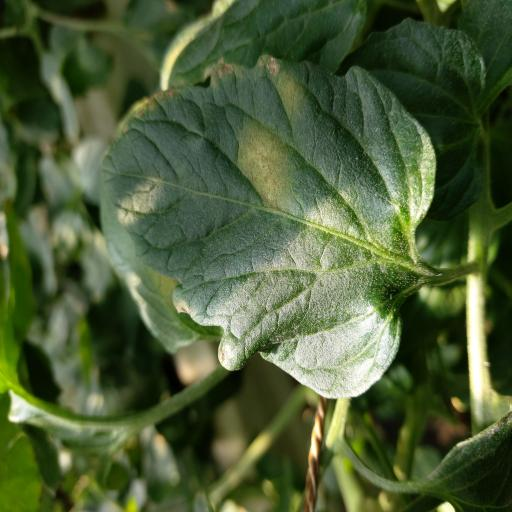disease_tomato: (98, 53, 436, 401)
